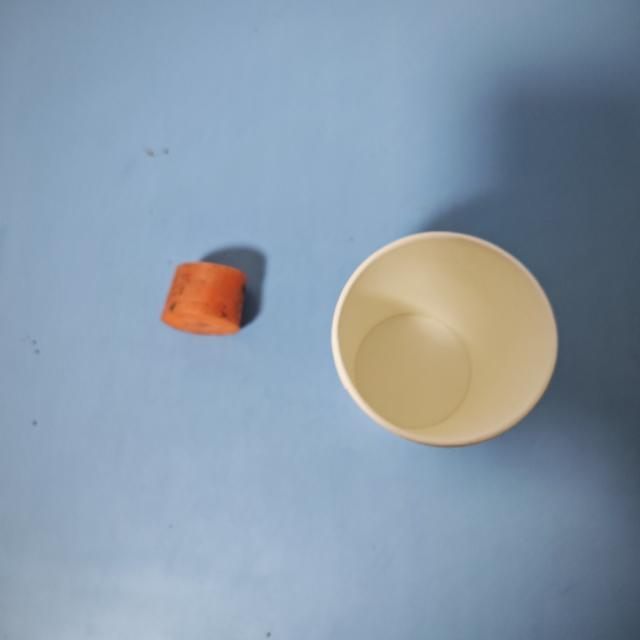-Kitchen waste - carrot-: (158, 259, 246, 334)
-Recyclables - paper cup-: (329, 228, 565, 451)
